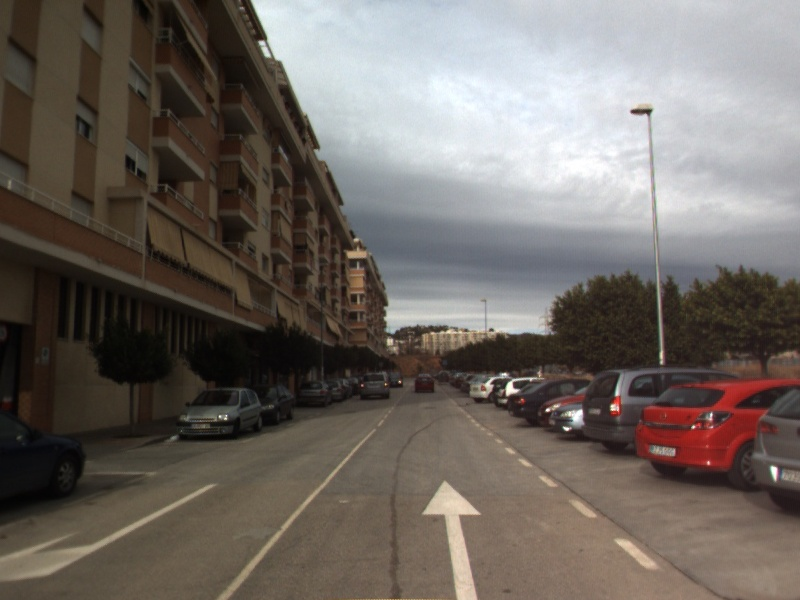STRAIGHT: (419, 477, 485, 600)
